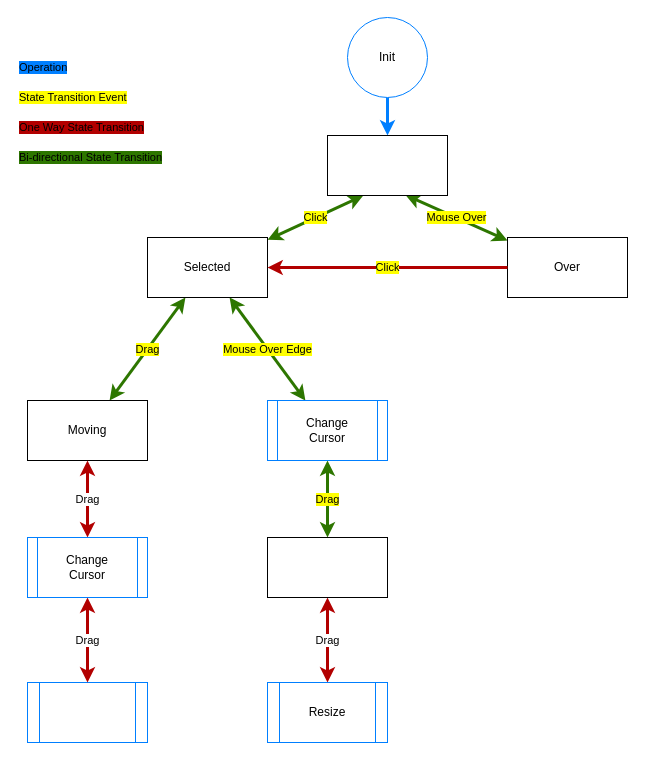
Image size: 645x760. Some labels were removed from this diagram. Each missing label, with the centre of its shape:
Deselected: the point at 387,165
Move: the point at 87,712
Resizing: the point at 327,567
